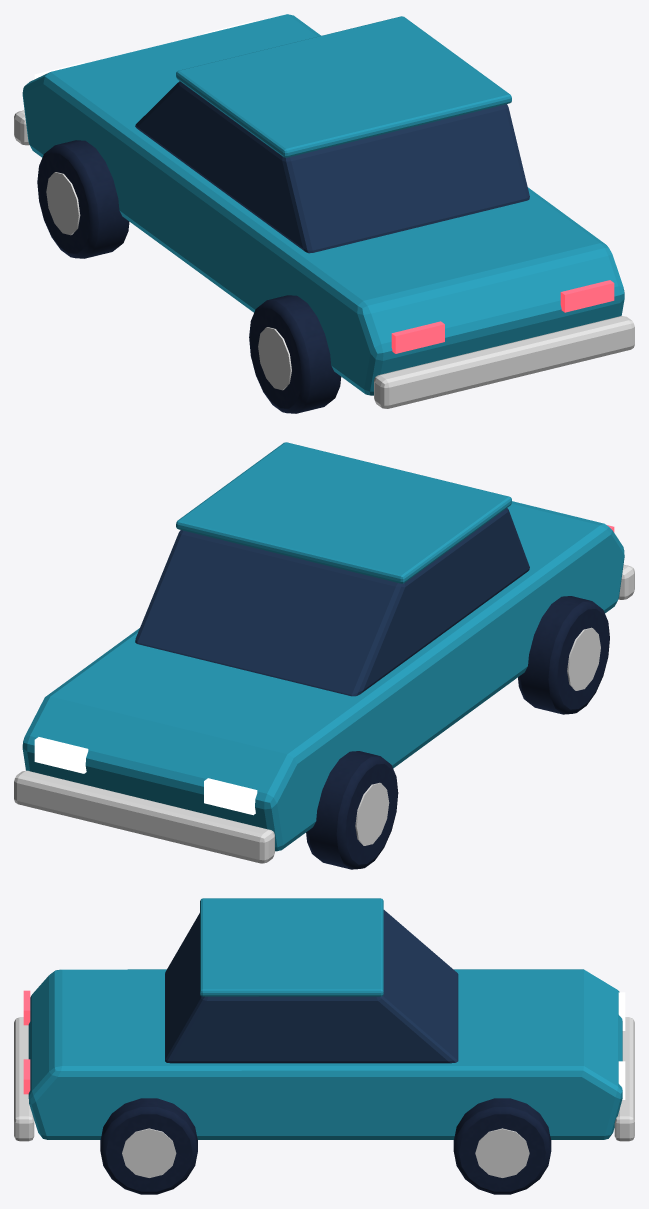
The model's file is env_car.glb.
3 views of the same model, one above another, from view 1: azimuth 30°, elevation 25°; view 2: azimuth 150°, elevation 25°; view 3: azimuth 270°, elevation 25° (orthographic). The views are drawn at different scales.
Visible parts, largest first — view 1: env_car; view 2: env_car; view 3: env_car.
Part boxes in pixels (<box>): env_car: <box>14,14,634,413</box>; env_car: <box>14,442,634,869</box>; env_car: <box>14,898,634,1194</box>.
Bounding box in the file's own units: 2.2 × 1.54 × 4.57.
6 materials, 1 textured.
